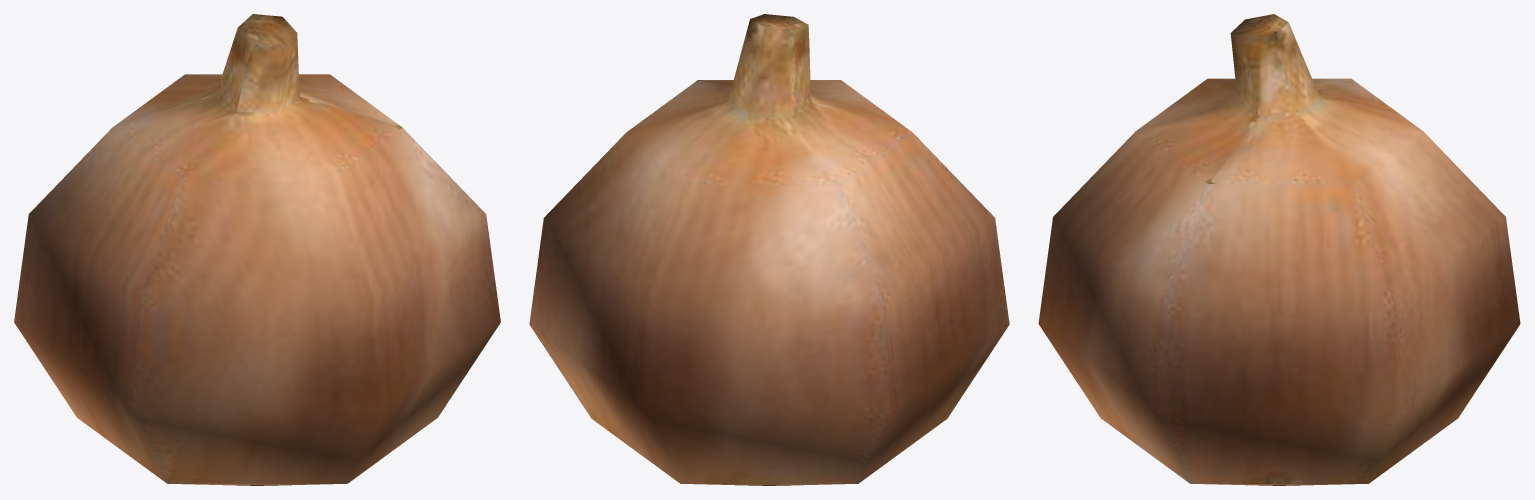
File: Onion.glb
3 views of the same model, side by side, from view 1: azimuth 30°, elevation 25°; view 2: azimuth 150°, elevation 25°; view 3: azimuth 270°, elevation 25° (orthographic).
Parts seen in each view (by area): view 1: Onion; view 2: Onion; view 3: Onion.
Boxes of the visible parts, <box> form: Onion: <box>14,14,500,485</box>; Onion: <box>529,14,1009,485</box>; Onion: <box>1038,14,1520,485</box>.
Bounding box in the file's own units: 0.1279 × 0.1568 × 0.1477.
1 material, 1 textured.
